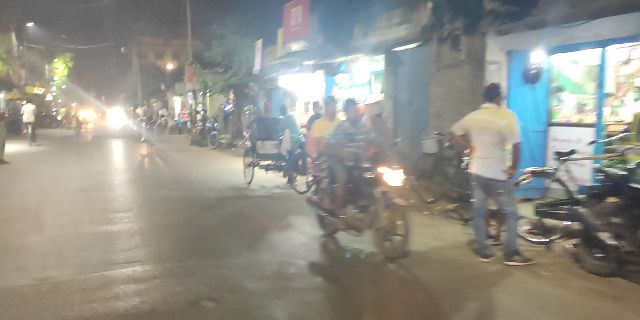Motorbike: (311, 96, 415, 258)
Rickshaw: (245, 115, 300, 192)
